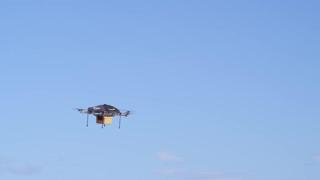UAV: (73, 104, 136, 129)
